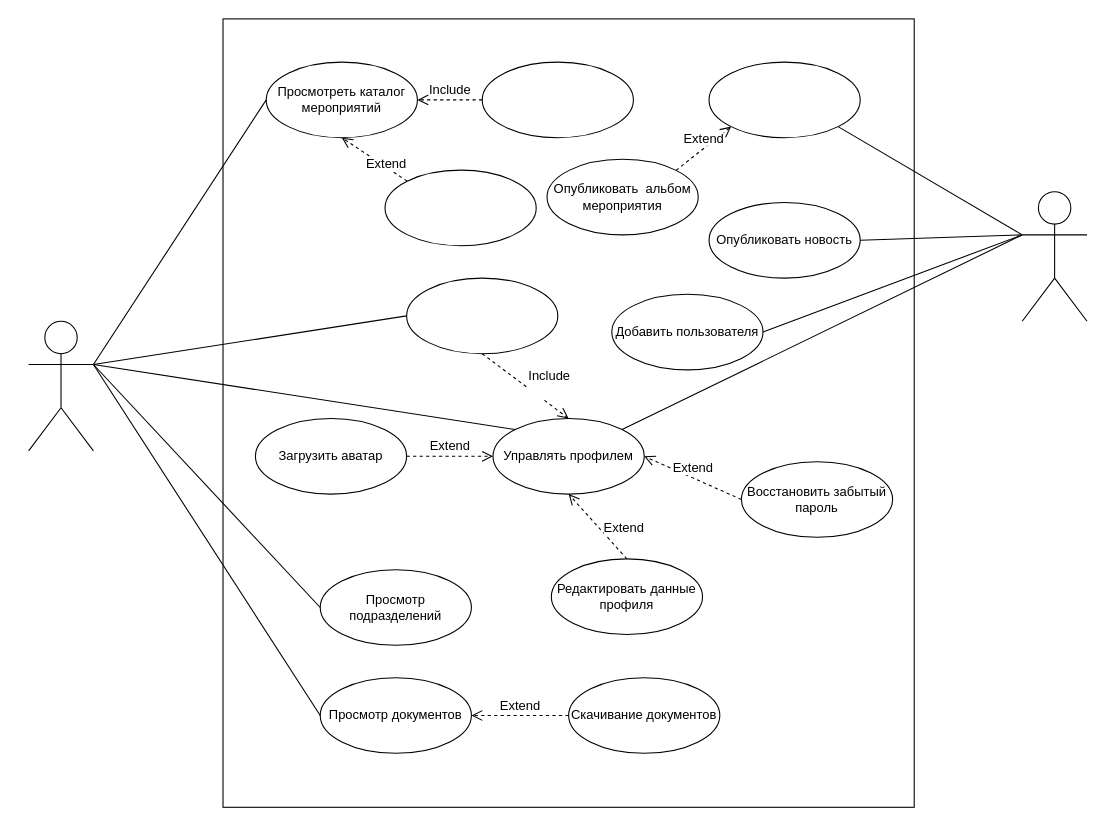
This 1120x826 diagram has some shape labels left out. The shapes that lost their labels are listed below. From the top down, each one's box as (x1, y1, x2, y2) in pixels, then its label:
(481, 61, 633, 138): Поиск по календарю
(708, 61, 860, 138): Опубликовать мероприятие
(384, 169, 536, 246): Просмотр альбома мероприятия
(1021, 191, 1087, 321): Администратор
(406, 277, 558, 354): Вход в аккаунт
(28, 320, 93, 451): Пользователь
